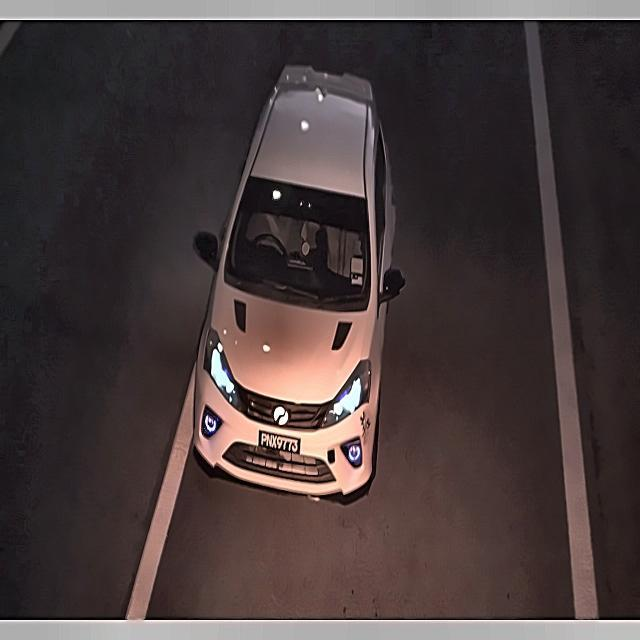car: (256, 426, 304, 458)
